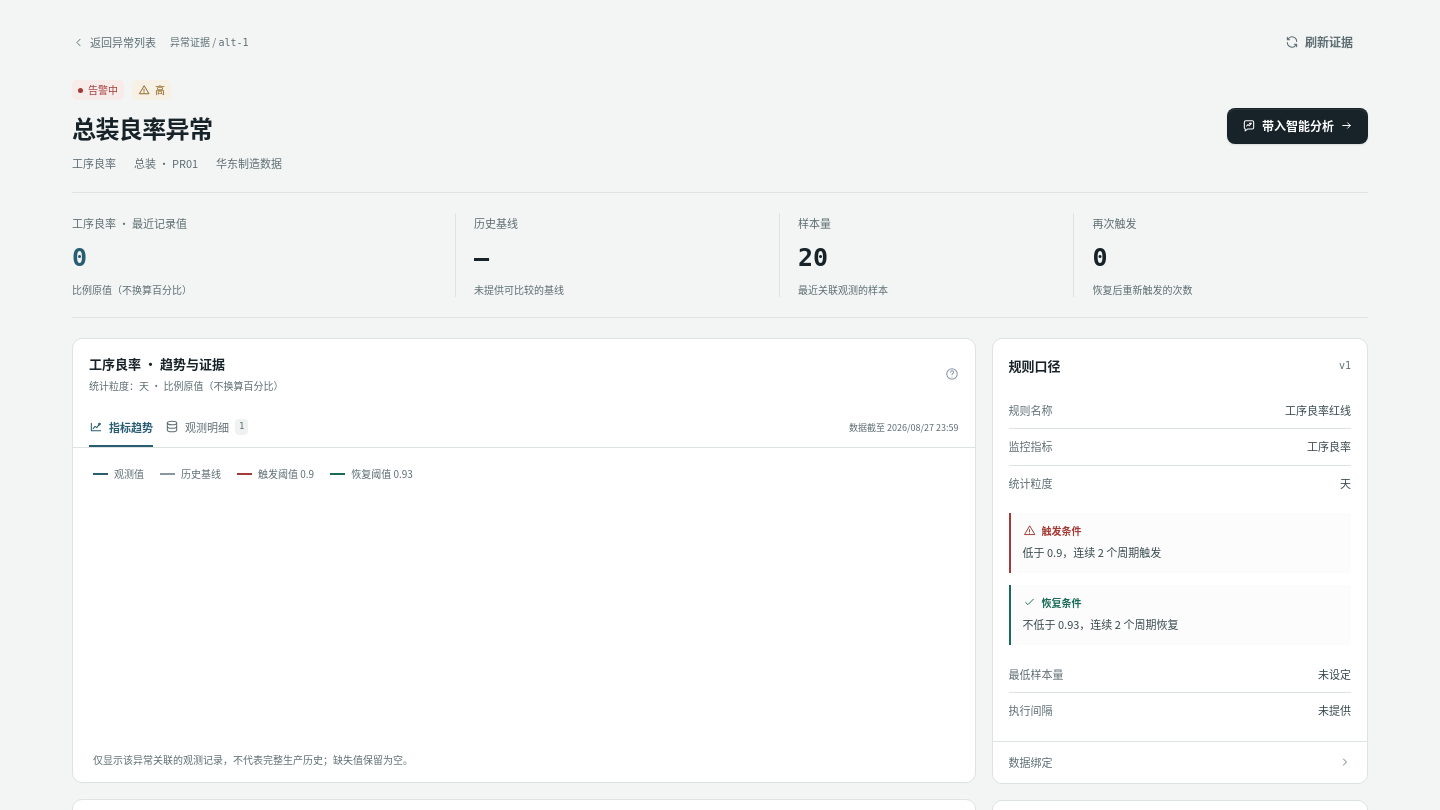
it: AlertDetailPage › shows named metrics, genuine rules and preserves list filters
Expected: the heading "总装良率异常" is shown, [72,110,212,145]
Expected: the text "工序良率" in the row of "· PR01" is shown, [72,155,116,171]
Click the button "观测明细 1" at (207, 428), box [165,409,248,447]
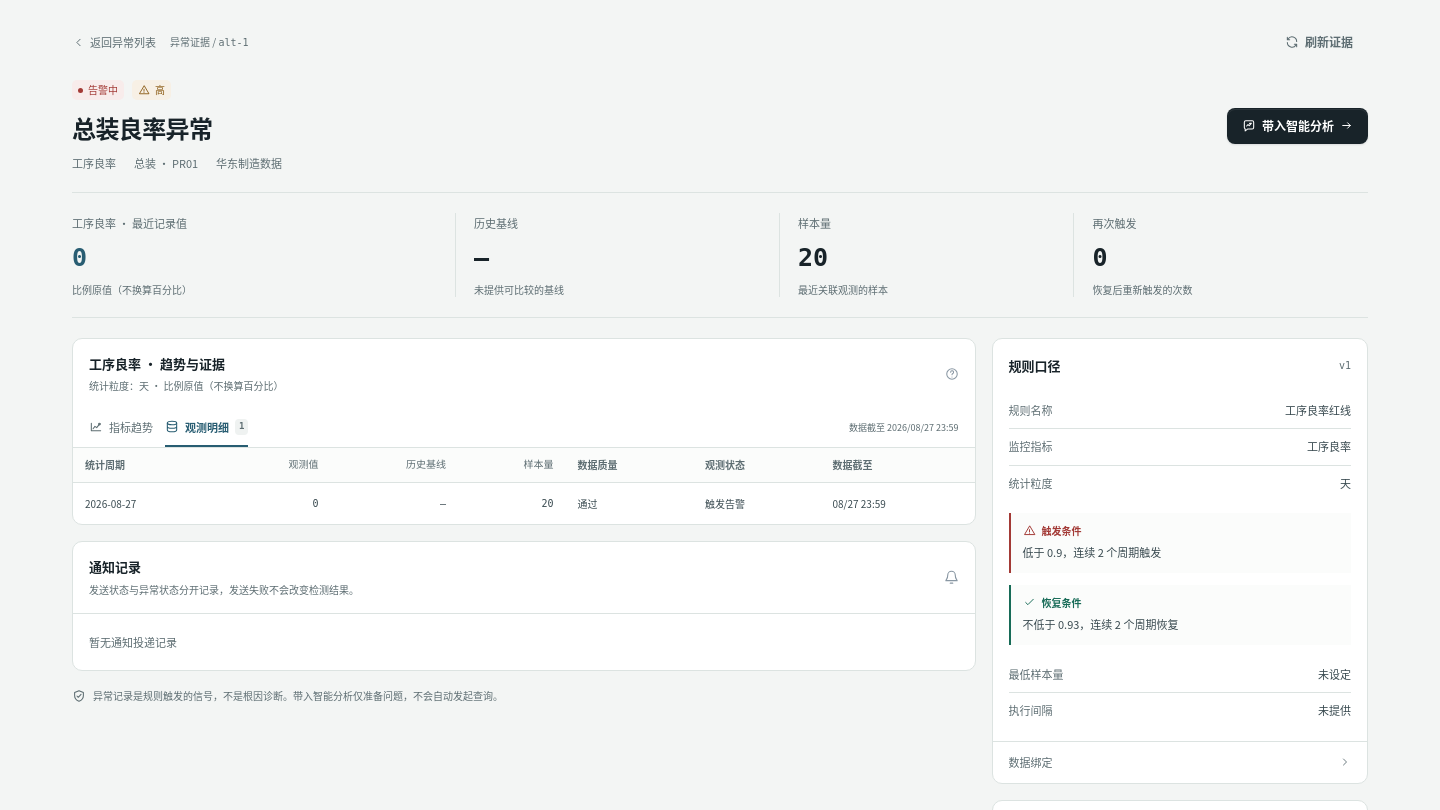
Now the table named "异常观测明细" is shown, box [73,448,974,524]
Now the text "通过" is shown, box [566,482,693,524]
